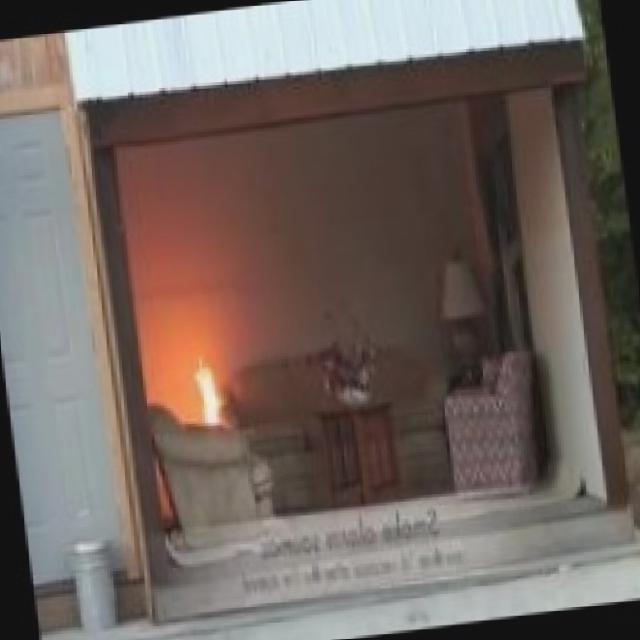fire: (175, 332, 228, 434)
